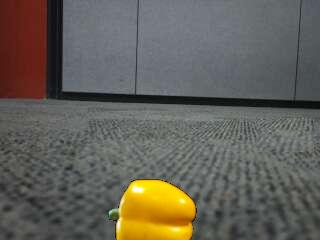Capsicum: (108, 178, 194, 240)
